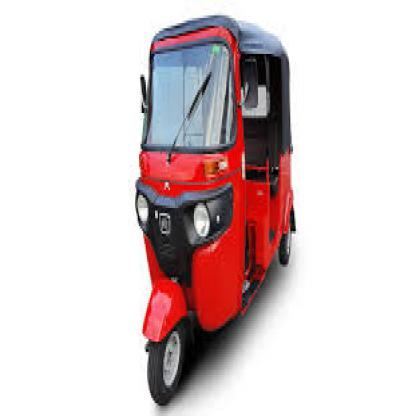tuk: (119, 10, 296, 411)
